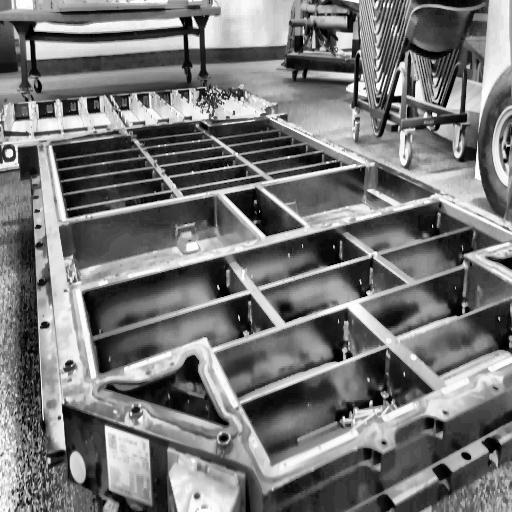b_casing: (37, 117, 512, 494)
